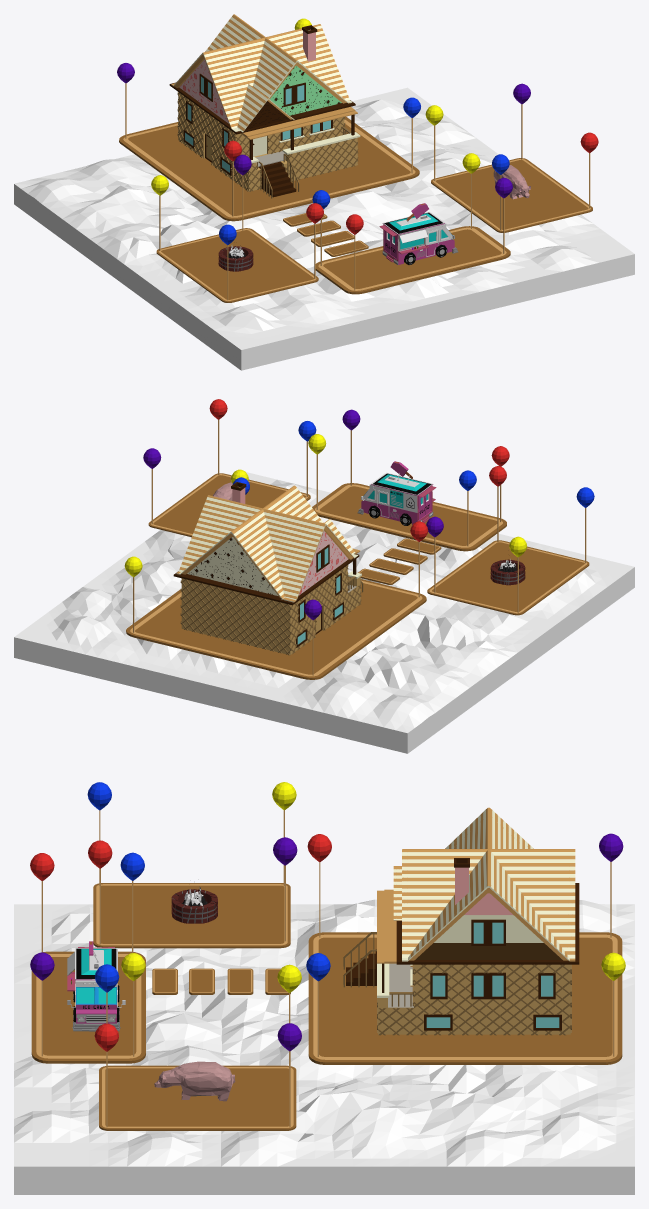
3 renders of one model, top to bottom at view 1: azimuth 30°, elevation 25°; view 2: azimuth 150°, elevation 25°; view 3: azimuth 270°, elevation 25°, orthographic. The views are drawn at different scales.
Parts seen in each view (by area): view 1: Cube.013, Cube.1102, VEHICLES_ICE_CREAM_TRUCK, OBJRANDOM_CAMPFIRE, ANIMAL_HIPOPOTAMO; view 2: Cube.013, Cube.1102, VEHICLES_ICE_CREAM_TRUCK, OBJRANDOM_CAMPFIRE; view 3: Cube.013, Cube.1102, VEHICLES_ICE_CREAM_TRUCK, ANIMAL_HIPOPOTAMO, OBJRANDOM_CAMPFIRE.
Boxes of the visible parts, x1,y1,x2,y2 form: Cube.013: (14,18,634,370); Cube.1102: (169,14,360,198); VEHICLES_ICE_CREAM_TRUCK: (379,203,458,264); OBJRANDOM_CAMPFIRE: (218,244,253,271); ANIMAL_HIPOPOTAMO: (493,165,530,199); Cube.013: (14,399,634,753); Cube.1102: (173,482,363,655); VEHICLES_ICE_CREAM_TRUCK: (357,461,436,525); OBJRANDOM_CAMPFIRE: (490,559,525,585); Cube.013: (14,782,634,1194); Cube.1102: (343,807,579,1035); VEHICLES_ICE_CREAM_TRUCK: (67,941,125,1031); ANIMAL_HIPOPOTAMO: (154,1061,235,1101); OBJRANDOM_CAMPFIRE: (171,887,217,923).
Bounding box in the file's own units: 4000 × 1691 × 4000.
Materials: 39 (2 with a texture image).
